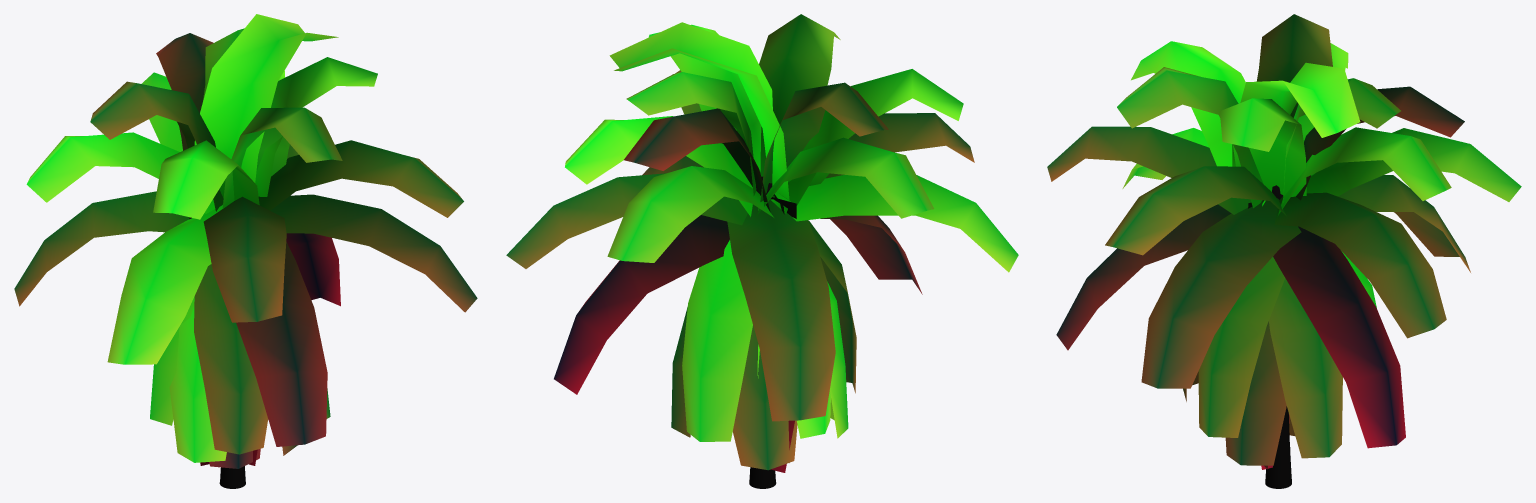
The model's file is SM_Palm6_2.fbx.
3 views of the same model, side by side, from view 1: azimuth 30°, elevation 25°; view 2: azimuth 150°, elevation 25°; view 3: azimuth 270°, elevation 25° (orthographic). The views are drawn at different scales.
Parts seen in each view (by area): view 1: SM_Palm6_2; view 2: SM_Palm6_2; view 3: SM_Palm6_2.
Part boxes in pixels (x1=…): SM_Palm6_2: x1=14, y1=14, x2=477, y2=488; SM_Palm6_2: x1=506, y1=14, x2=1018, y2=488; SM_Palm6_2: x1=1047, y1=14, x2=1521, y2=488.
Size of the model in its own units: 658 by 737 by 717.
